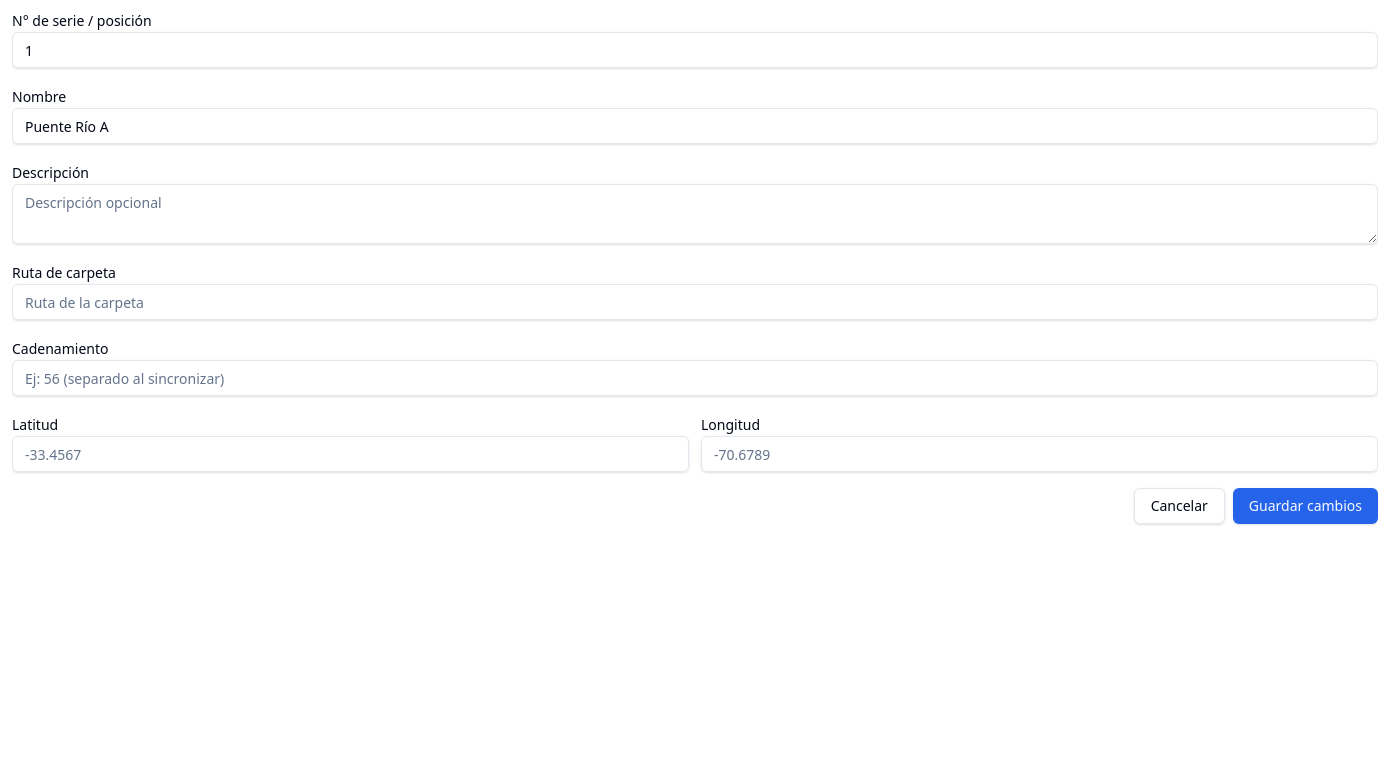
FormularioPunto — validación sincrónica › muestra error cuando el nombre queda vacío
Clear the field labelled "Nombre" at (695, 126), box [12,108,1378,144]
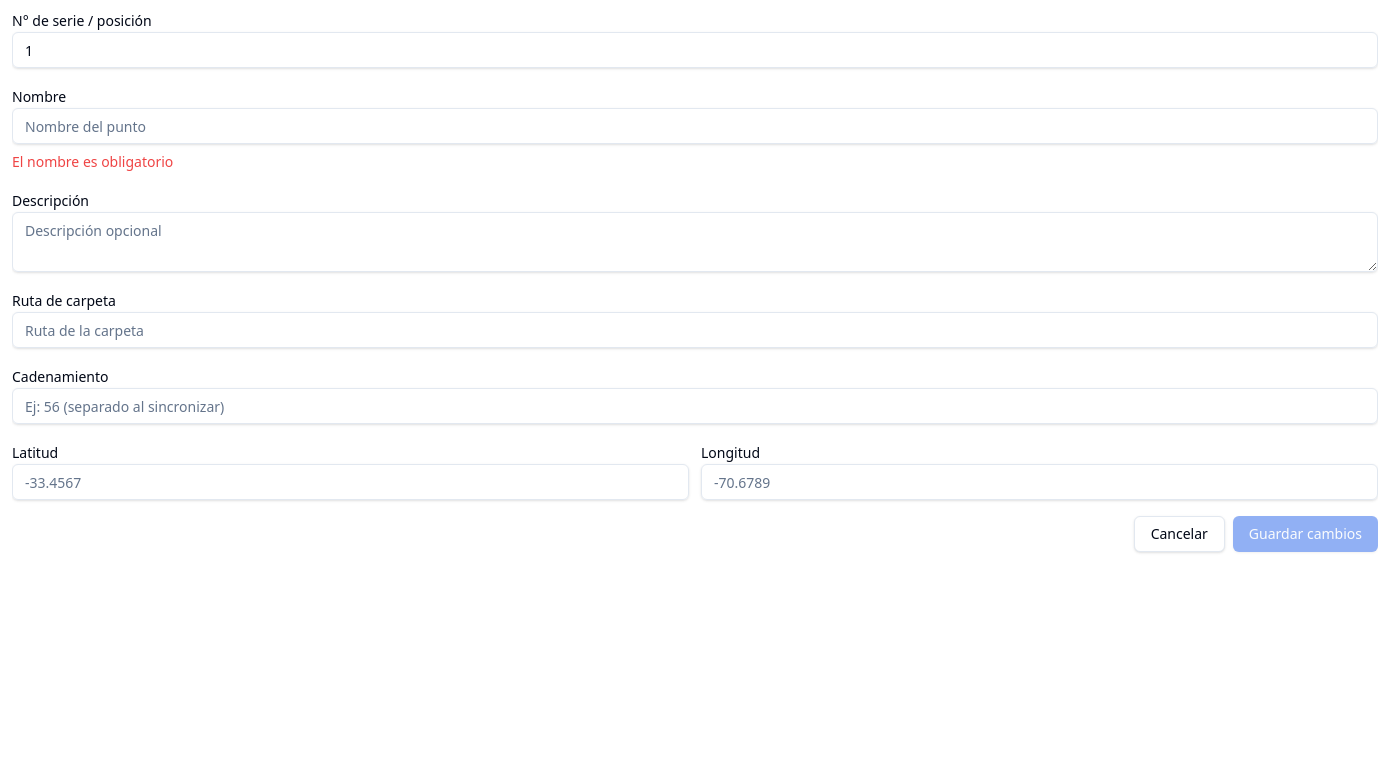
Check: the message reads "El nombre es obligatorio", box [12,152,173,171]
